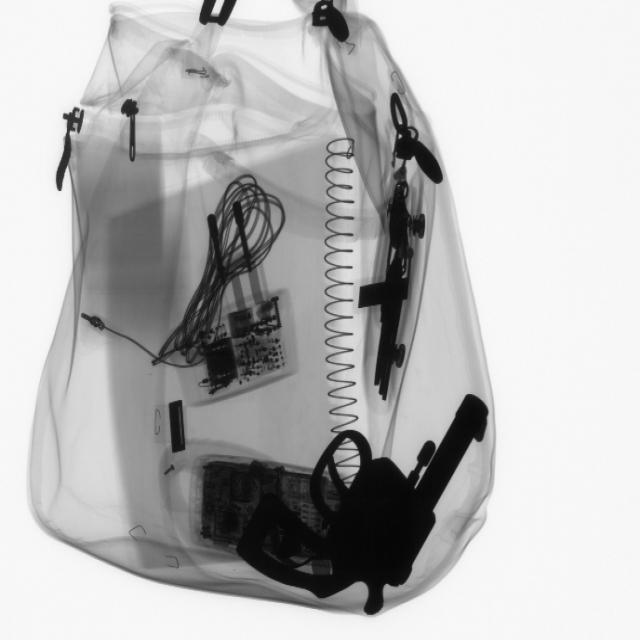GUN: (241, 371, 500, 620)
